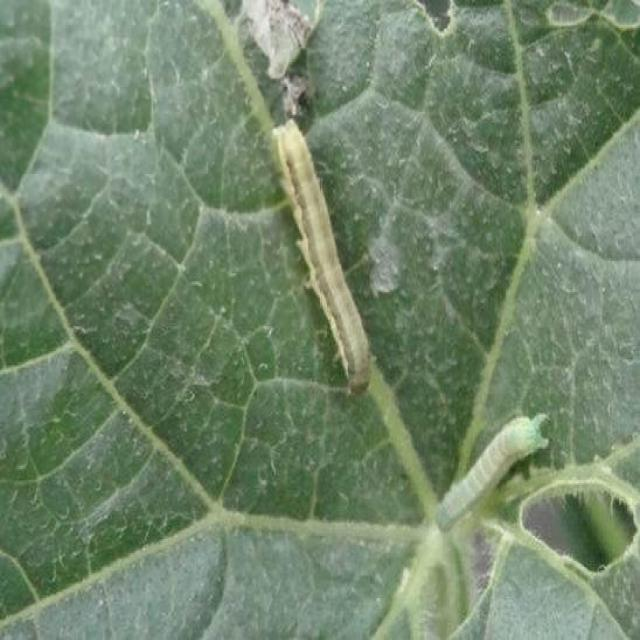BeetArmyWorm-Larva-: (264, 114, 376, 393), (427, 414, 558, 534)
